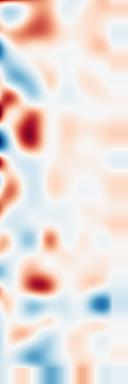filament: (12, 105, 50, 155)
